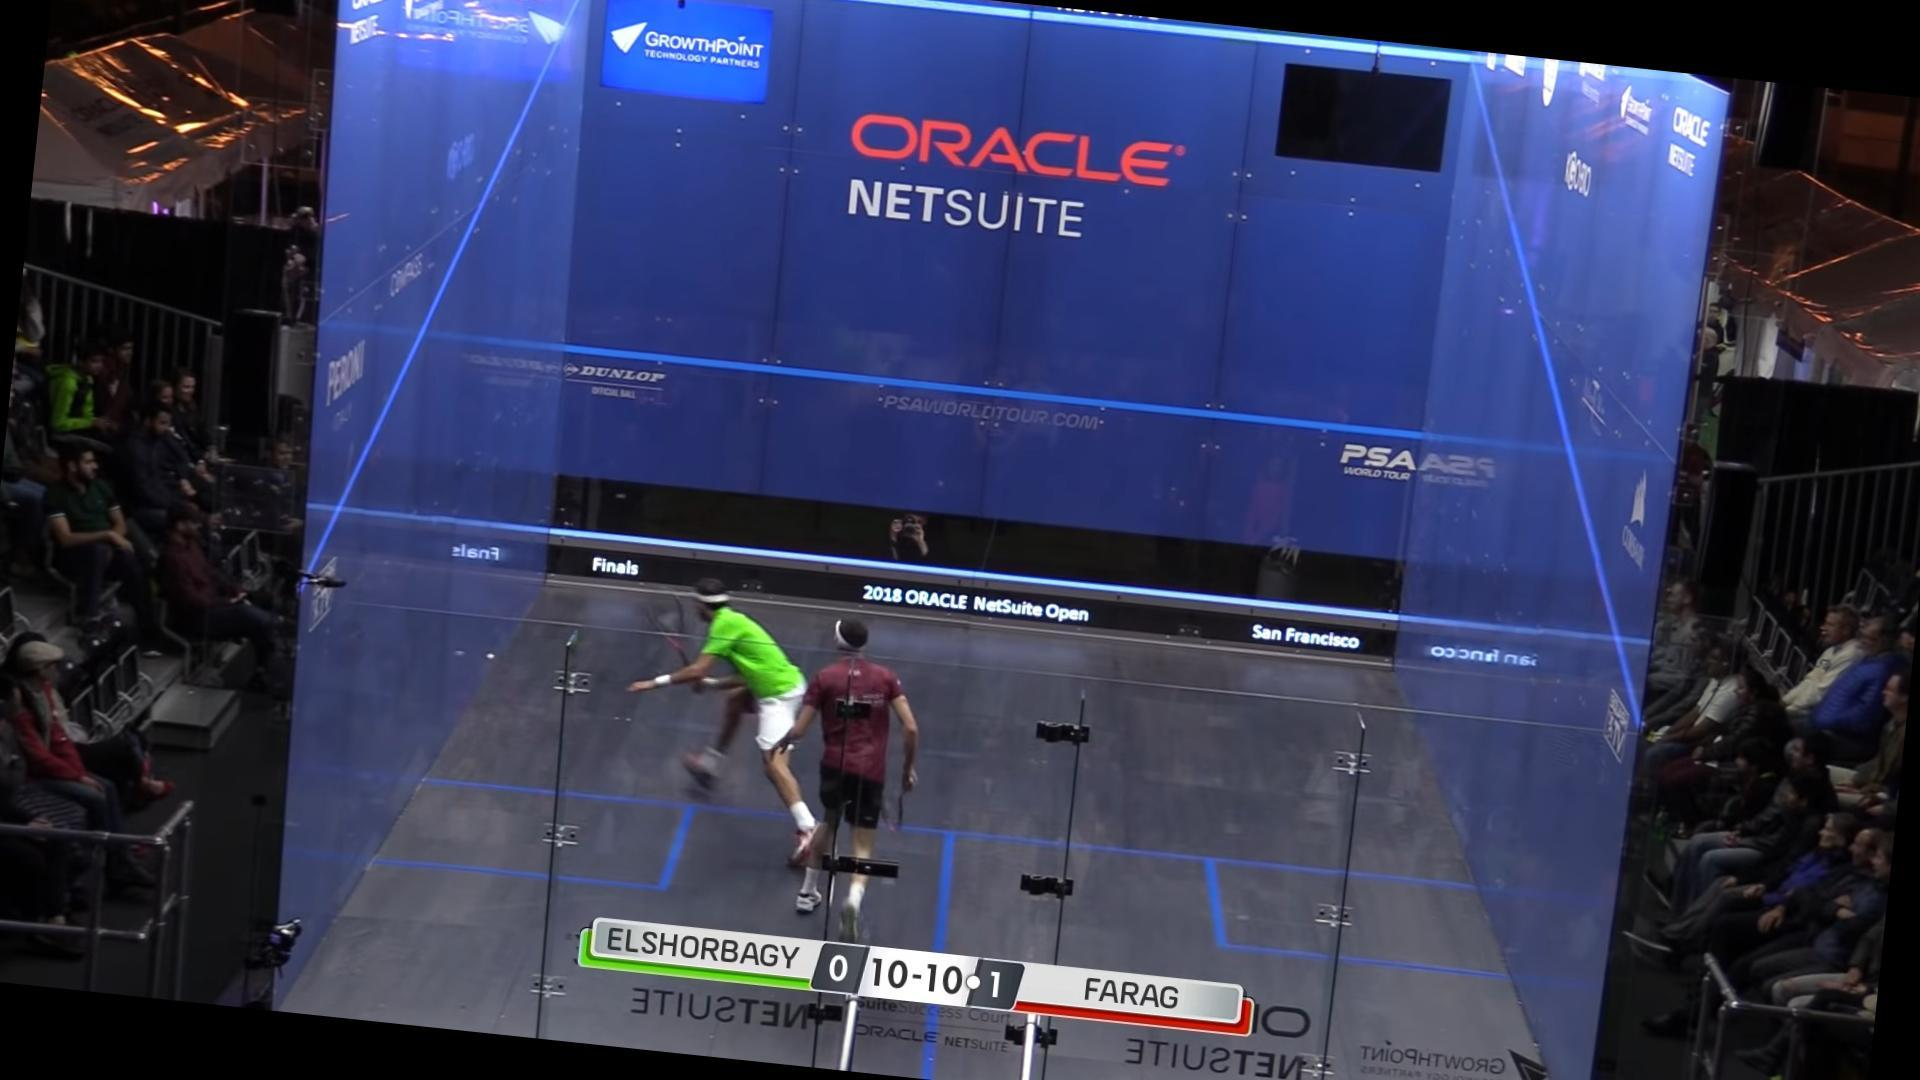Squash-Ball: (473, 646, 513, 676)
